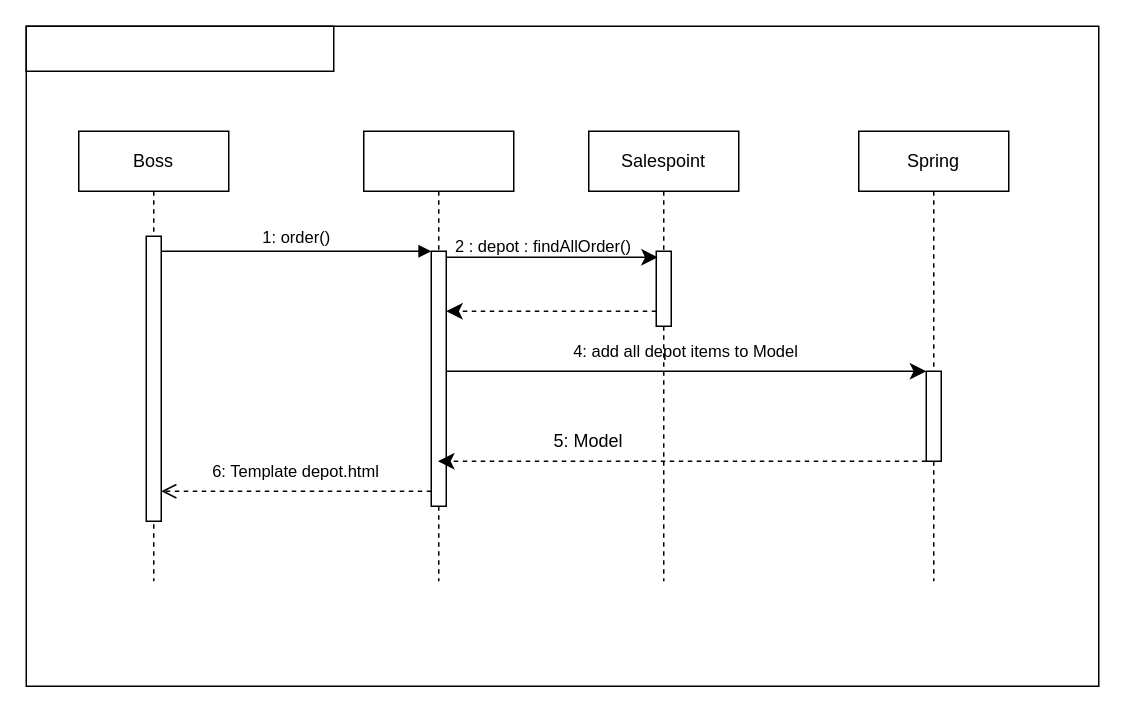
Some shapes in this 1125 by 713 pixel diagram are drawn without their labels. Here are the shapes that lost their labels. From the top down, the box of each, then its label:
(25, 25, 334, 71): interaction seq_depot [seq_depot]
(362, 130, 514, 581): Depot
